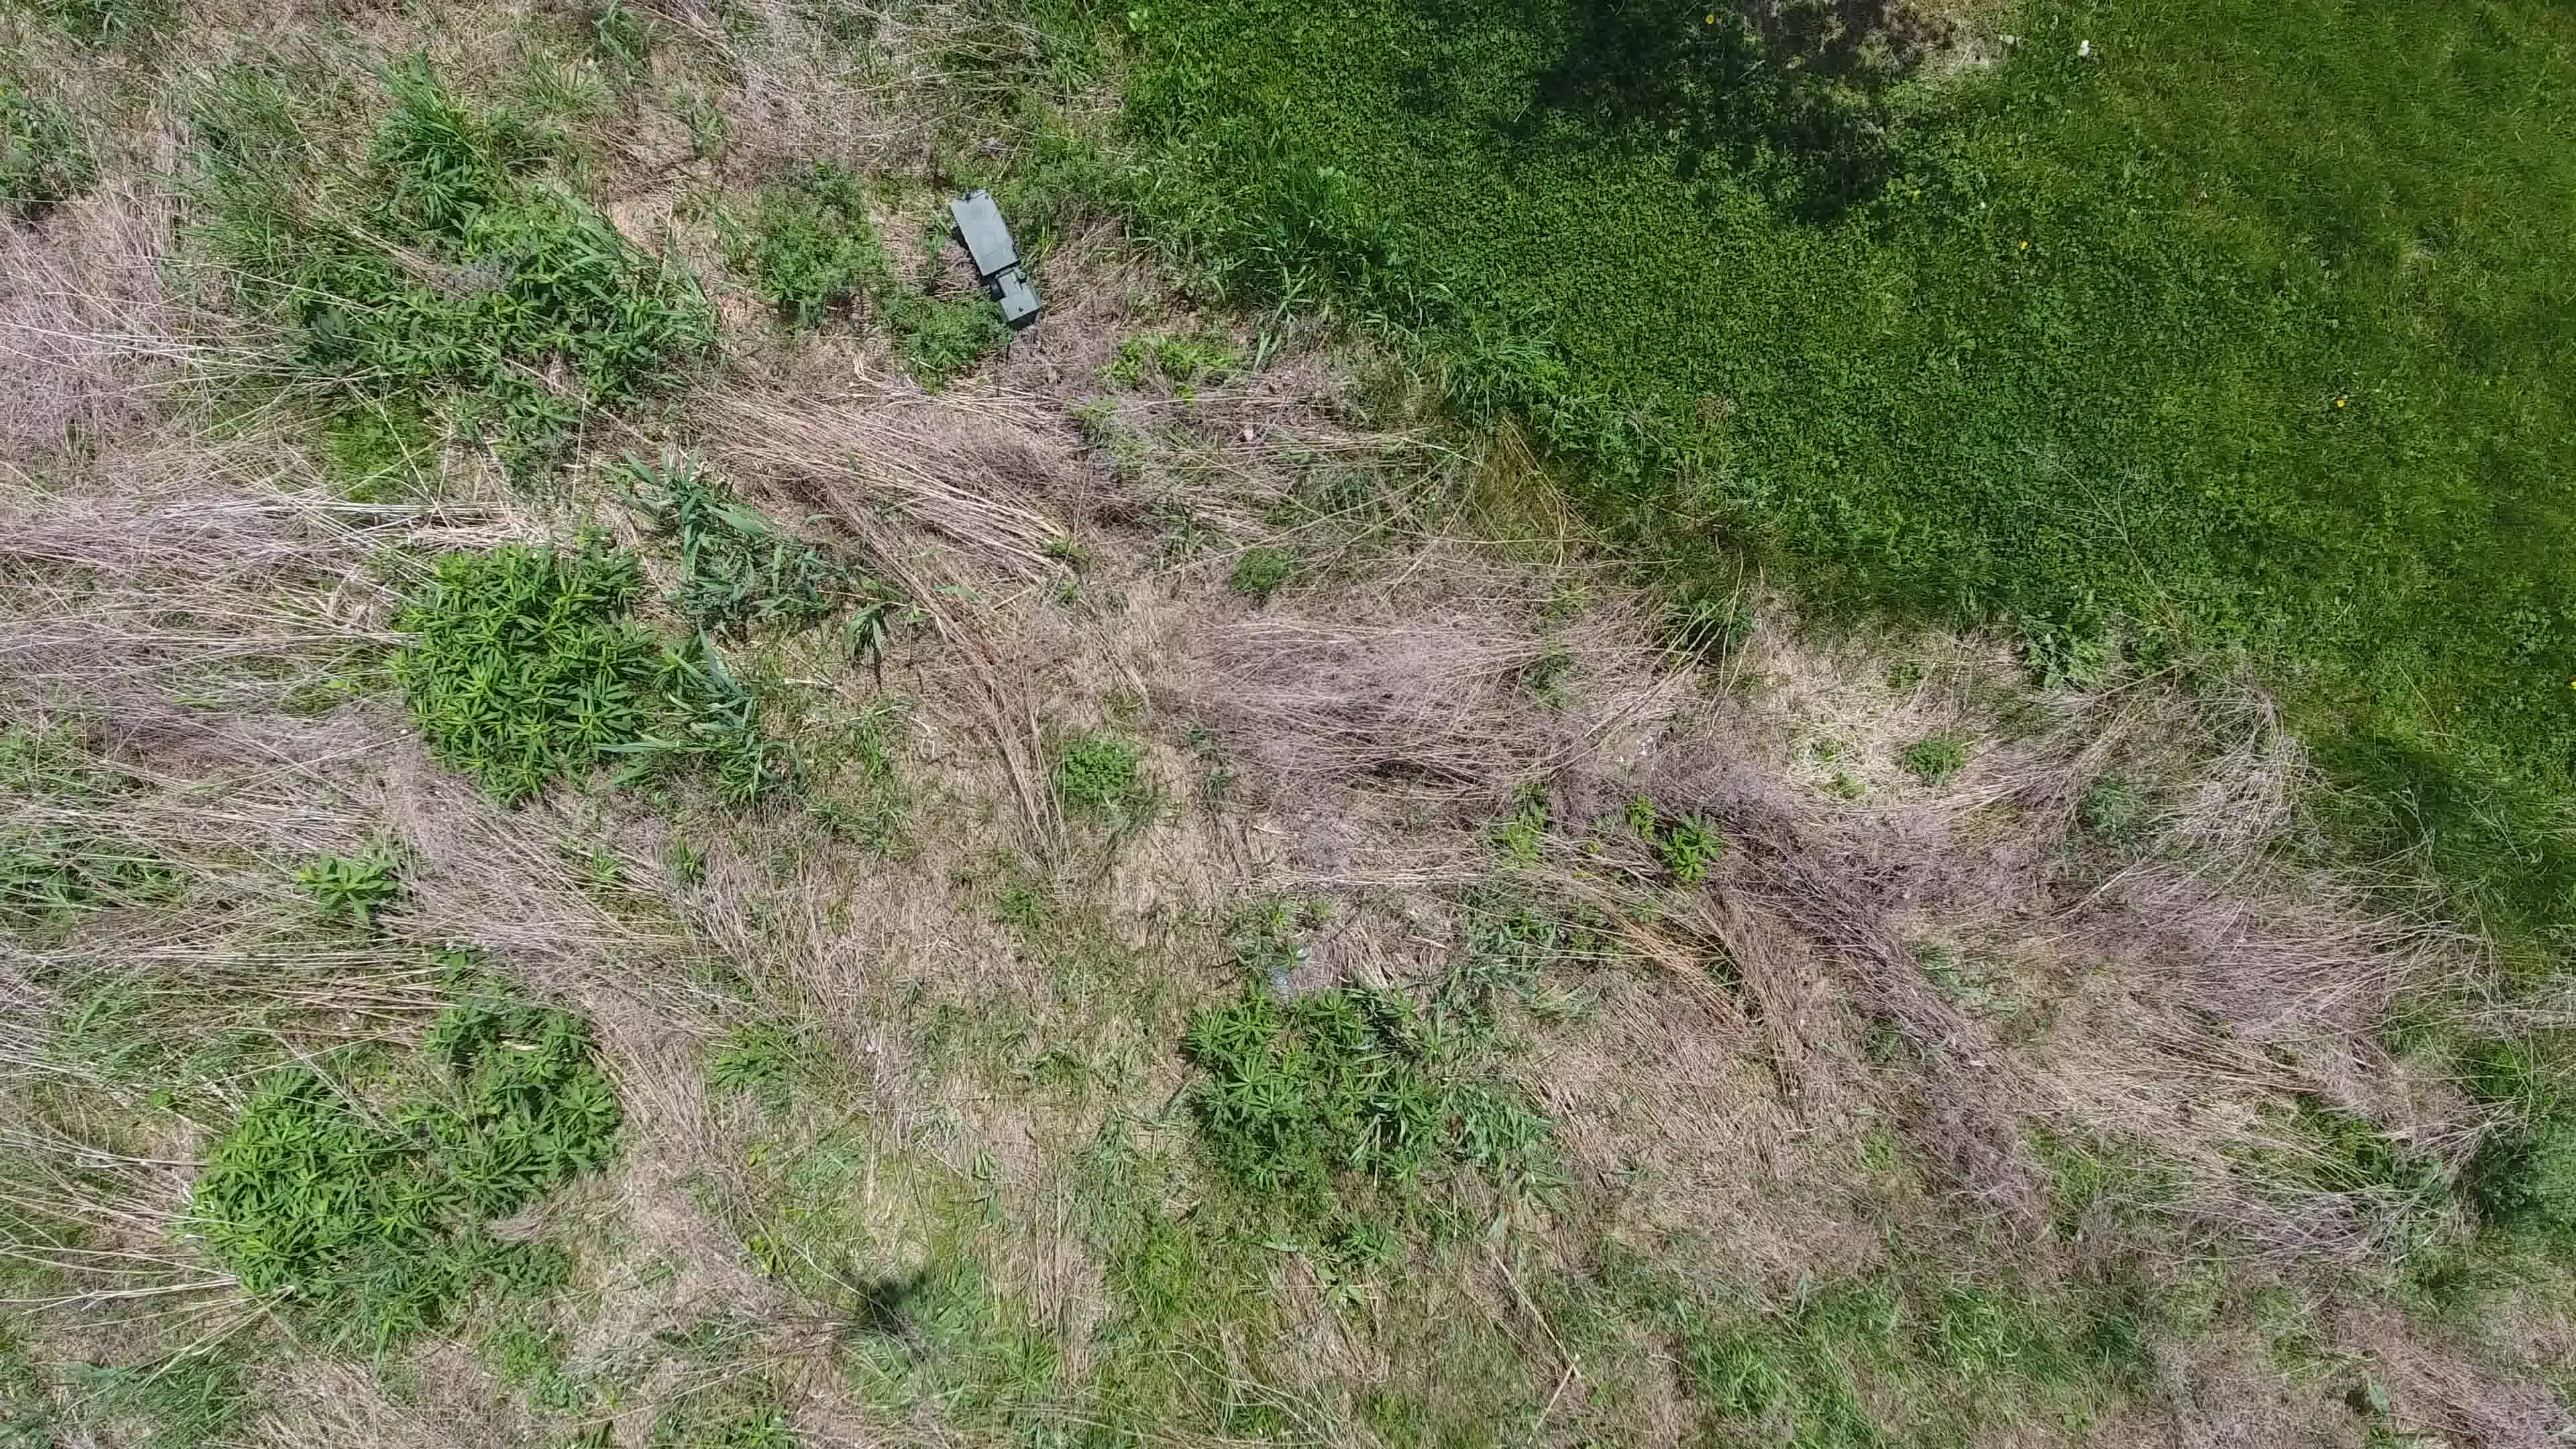transporter9: (943, 184, 1047, 333)
